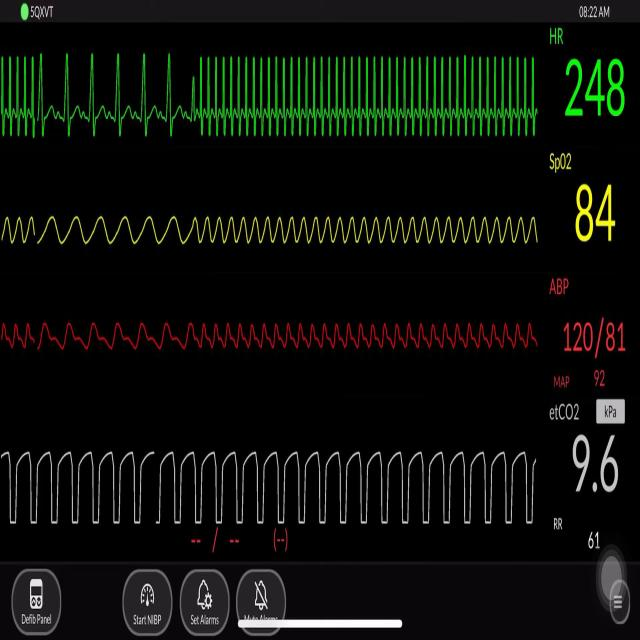danger: (190, 33, 543, 158), (0, 36, 55, 144)
